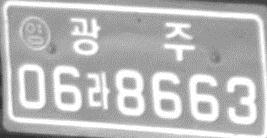0: (16, 63, 47, 111)
3: (225, 76, 258, 125)
6: (150, 70, 183, 120), (187, 73, 220, 122), (51, 64, 82, 112)
8: (114, 68, 145, 116)
광주_D: (68, 16, 195, 61)
라: (85, 70, 110, 109)
영: (18, 14, 51, 51)
